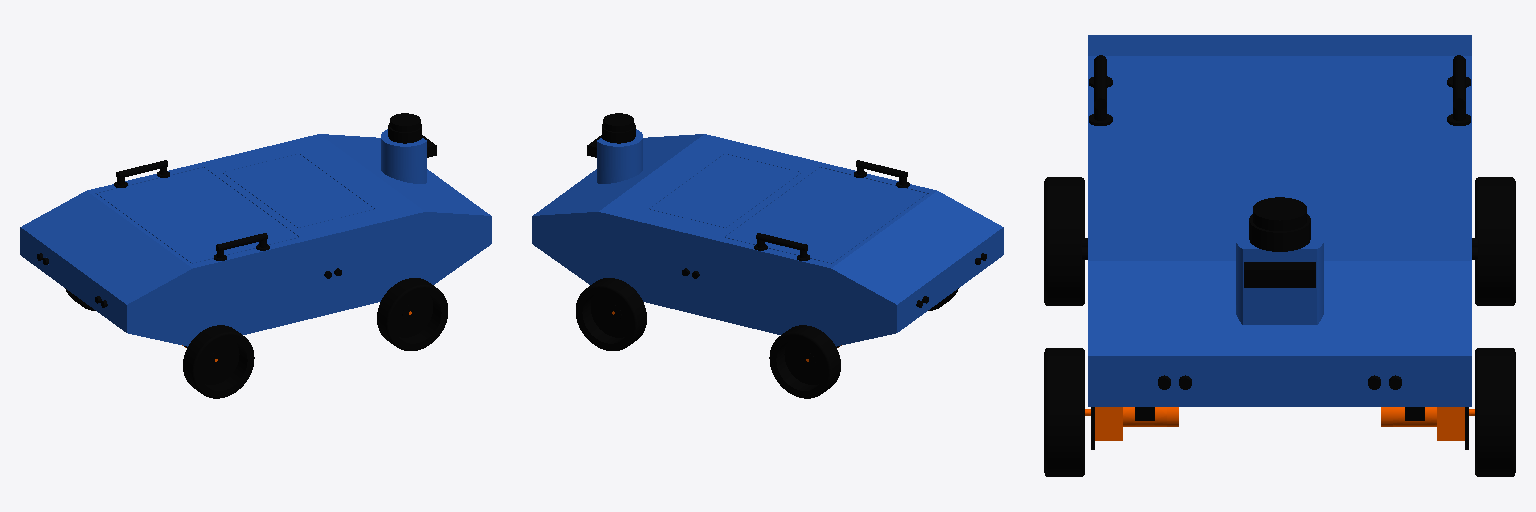
The robot description file, URDF, robot "vishwaa":
<?xml version="1.0"?>
<robot name="vishwaa">
  <material name="vishwaa_blue"><color rgba="0.16 0.36 0.70 1"/></material>
  <material name="matte_black"><color rgba="0.05 0.05 0.05 1"/></material>
  <material name="tt555_orange"><color rgba="1.0 0.40 0.0 1"/></material>
  <link name="base_footprint"/>
  <link name="base_link">
    <inertial>
      <origin xyz="0.002165 0.000532 0.113181" rpy="0 0 0"/>
      <mass value="29.03409"/>
      <inertia ixx="0.787712" ixy="-0.001158" ixz="-0.099656" iyy="1.85682" iyz="0.000778" izz="2.245856"/>
    </inertial>
    <visual>
      <origin xyz="0 0 -0.08" rpy="0 0 0"/>
      <geometry><mesh filename="package://vishwaa_description/meshes/chassis_hull.stl" scale="0.001 0.001 0.001"/></geometry>
      <material name="vishwaa_blue"/>
    </visual>
    <visual>
      <origin xyz="0 0 -0.08" rpy="0 0 0"/>
      <geometry><mesh filename="package://vishwaa_description/meshes/top_lid.stl" scale="0.001 0.001 0.001"/></geometry>
      <material name="vishwaa_blue"/>
    </visual>
    <visual>
      <origin xyz="0 0 -0.08" rpy="0 0 0"/>
      <geometry><mesh filename="package://vishwaa_description/meshes/sensor_disc.stl" scale="0.001 0.001 0.001"/></geometry>
      <material name="vishwaa_blue"/>
    </visual>
    <visual>
      <origin xyz="0 0 -0.08" rpy="0 0 0"/>
      <geometry><mesh filename="package://vishwaa_description/meshes/handle_right.stl" scale="0.001 0.001 0.001"/></geometry>
      <material name="matte_black"/>
    </visual>
    <visual>
      <origin xyz="0 0 -0.08" rpy="0 0 0"/>
      <geometry><mesh filename="package://vishwaa_description/meshes/handle_left.stl" scale="0.001 0.001 0.001"/></geometry>
      <material name="matte_black"/>
    </visual>
    <visual>
      <origin xyz="0.25 0.2295 0" rpy="0 0 0"/>
      <geometry><mesh filename="package://vishwaa_description/meshes/gearmotor_tt555.stl" scale="0.001 0.001 0.001"/></geometry>
      <material name="tt555_orange"/>
    </visual>
    <visual>
      <origin xyz="0.25 -0.2295 0" rpy="0 0 3.141593"/>
      <geometry><mesh filename="package://vishwaa_description/meshes/gearmotor_tt555.stl" scale="0.001 0.001 0.001"/></geometry>
      <material name="tt555_orange"/>
    </visual>
    <visual>
      <origin xyz="-0.25 0.2295 0" rpy="0 0 0"/>
      <geometry><mesh filename="package://vishwaa_description/meshes/gearmotor_tt555.stl" scale="0.001 0.001 0.001"/></geometry>
      <material name="tt555_orange"/>
    </visual>
    <visual>
      <origin xyz="-0.25 -0.2295 0" rpy="0 0 3.141593"/>
      <geometry><mesh filename="package://vishwaa_description/meshes/gearmotor_tt555.stl" scale="0.001 0.001 0.001"/></geometry>
      <material name="tt555_orange"/>
    </visual>
    <visual>
      <origin xyz="0.25 0.2295 0" rpy="0 0 0"/>
      <geometry><mesh filename="package://vishwaa_description/meshes/motor_mount_plate.stl" scale="0.001 0.001 0.001"/></geometry>
      <material name="matte_black"/>
    </visual>
    <visual>
      <origin xyz="0.25 -0.2295 0" rpy="0 0 3.141593"/>
      <geometry><mesh filename="package://vishwaa_description/meshes/motor_mount_plate.stl" scale="0.001 0.001 0.001"/></geometry>
      <material name="matte_black"/>
    </visual>
    <visual>
      <origin xyz="-0.25 0.2295 0" rpy="0 0 0"/>
      <geometry><mesh filename="package://vishwaa_description/meshes/motor_mount_plate.stl" scale="0.001 0.001 0.001"/></geometry>
      <material name="matte_black"/>
    </visual>
    <visual>
      <origin xyz="-0.25 -0.2295 0" rpy="0 0 3.141593"/>
      <geometry><mesh filename="package://vishwaa_description/meshes/motor_mount_plate.stl" scale="0.001 0.001 0.001"/></geometry>
      <material name="matte_black"/>
    </visual>
    <visual>
      <origin xyz="0.25 0.2295 0" rpy="0 0 0"/>
      <geometry><mesh filename="package://vishwaa_description/meshes/motor_saddle.stl" scale="0.001 0.001 0.001"/></geometry>
      <material name="matte_black"/>
    </visual>
    <visual>
      <origin xyz="0.25 -0.2295 0" rpy="0 0 3.141593"/>
      <geometry><mesh filename="package://vishwaa_description/meshes/motor_saddle.stl" scale="0.001 0.001 0.001"/></geometry>
      <material name="matte_black"/>
    </visual>
    <visual>
      <origin xyz="-0.25 0.2295 0" rpy="0 0 0"/>
      <geometry><mesh filename="package://vishwaa_description/meshes/motor_saddle.stl" scale="0.001 0.001 0.001"/></geometry>
      <material name="matte_black"/>
    </visual>
    <visual>
      <origin xyz="-0.25 -0.2295 0" rpy="0 0 3.141593"/>
      <geometry><mesh filename="package://vishwaa_description/meshes/motor_saddle.stl" scale="0.001 0.001 0.001"/></geometry>
      <material name="matte_black"/>
    </visual>
    <collision>
      <origin xyz="0 0 0.1325" rpy="0 0 0"/>
      <geometry><box size="0.94 0.475 0.195"/></geometry>
    </collision>
  </link>
  <link name="wheel_front_left_link">
    <inertial>
      <origin xyz="0 0.018863 0" rpy="0 0 0"/>
      <mass value="0.670094"/>
      <inertia ixx="0.001352" ixy="0" ixz="0" iyy="0.002459" iyz="0" izz="0.001352"/>
    </inertial>
    <visual>
      <origin xyz="0 0 0" rpy="0 0 0"/>
      <geometry><mesh filename="package://vishwaa_description/meshes/wheel.stl" scale="0.001 0.001 0.001"/></geometry>
      <material name="matte_black"/>
    </visual>
    <collision>
      <origin xyz="0 0.025 0" rpy="1.570796 0 0"/>
      <geometry><cylinder radius="0.08" length="0.05"/></geometry>
    </collision>
  </link>
  <link name="wheel_front_right_link">
    <inertial>
      <origin xyz="0 0.018863 0" rpy="0 0 0"/>
      <mass value="0.670094"/>
      <inertia ixx="0.001352" ixy="0" ixz="0" iyy="0.002459" iyz="0" izz="0.001352"/>
    </inertial>
    <visual>
      <origin xyz="0 0 0" rpy="0 0 0"/>
      <geometry><mesh filename="package://vishwaa_description/meshes/wheel.stl" scale="0.001 0.001 0.001"/></geometry>
      <material name="matte_black"/>
    </visual>
    <collision>
      <origin xyz="0 0.025 0" rpy="1.570796 0 0"/>
      <geometry><cylinder radius="0.08" length="0.05"/></geometry>
    </collision>
  </link>
  <link name="wheel_rear_left_link">
    <inertial>
      <origin xyz="0 0.018863 0" rpy="0 0 0"/>
      <mass value="0.670094"/>
      <inertia ixx="0.001352" ixy="0" ixz="0" iyy="0.002459" iyz="0" izz="0.001352"/>
    </inertial>
    <visual>
      <origin xyz="0 0 0" rpy="0 0 0"/>
      <geometry><mesh filename="package://vishwaa_description/meshes/wheel.stl" scale="0.001 0.001 0.001"/></geometry>
      <material name="matte_black"/>
    </visual>
    <collision>
      <origin xyz="0 0.025 0" rpy="1.570796 0 0"/>
      <geometry><cylinder radius="0.08" length="0.05"/></geometry>
    </collision>
  </link>
  <link name="wheel_rear_right_link">
    <inertial>
      <origin xyz="0 0.018863 0" rpy="0 0 0"/>
      <mass value="0.670094"/>
      <inertia ixx="0.001352" ixy="0" ixz="0" iyy="0.002459" iyz="0" izz="0.001352"/>
    </inertial>
    <visual>
      <origin xyz="0 0 0" rpy="0 0 0"/>
      <geometry><mesh filename="package://vishwaa_description/meshes/wheel.stl" scale="0.001 0.001 0.001"/></geometry>
      <material name="matte_black"/>
    </visual>
    <collision>
      <origin xyz="0 0.025 0" rpy="1.570796 0 0"/>
      <geometry><cylinder radius="0.08" length="0.05"/></geometry>
    </collision>
  </link>
  <link name="lidar_link">
    <inertial>
      <origin xyz="0 0 -0.014023" rpy="0 0 0"/>
      <mass value="0.182769"/>
      <inertia ixx="0.000087" ixy="0" ixz="0" iyy="0.000087" iyz="0" izz="0.000124"/>
    </inertial>
    <visual>
      <origin xyz="-0.385 0 -0.4135" rpy="0 0 0"/>
      <geometry><mesh filename="package://vishwaa_description/meshes/lidar_2d.stl" scale="0.001 0.001 0.001"/></geometry>
      <material name="matte_black"/>
    </visual>
    <collision>
      <origin xyz="0 0 -0.0135" rpy="0 0 0"/>
      <geometry><cylinder radius="0.038" length="0.041"/></geometry>
    </collision>
  </link>
  <link name="camera_link">
    <inertial>
      <origin xyz="0 0 0" rpy="0 0 0"/>
      <mass value="0.059625"/>
      <inertia ixx="0.000043" ixy="0" ixz="0" iyy="0.000006" iyz="0" izz="0.000043"/>
    </inertial>
    <visual>
      <origin xyz="-0.4275 0 -0.3505" rpy="0 0 0"/>
      <geometry><mesh filename="package://vishwaa_description/meshes/depth_camera.stl" scale="0.001 0.001 0.001"/></geometry>
      <material name="matte_black"/>
    </visual>
    <collision>
      <origin xyz="0 0 0" rpy="0 0 0"/>
      <geometry><box size="0.025 0.09 0.025"/></geometry>
    </collision>
  </link>
  <link name="camera_depth_optical_frame"/>
  <link name="us_front_right_link">
    <inertial>
      <origin xyz="0.005106 0 0" rpy="0 0 0"/>
      <mass value="0.014937"/>
      <inertia ixx="0.000003" ixy="0" ixz="0" iyy="0.000001" iyz="0" izz="0.000003"/>
    </inertial>
    <visual>
      <origin xyz="0 0 0" rpy="0 0 0"/>
      <geometry><mesh filename="package://vishwaa_description/meshes/ultrasonic_module.stl" scale="0.001 0.001 0.001"/></geometry>
      <material name="matte_black"/>
    </visual>
  </link>
  <link name="us_front_left_link">
    <inertial>
      <origin xyz="0.005106 0 0" rpy="0 0 0"/>
      <mass value="0.014937"/>
      <inertia ixx="0.000003" ixy="0" ixz="0" iyy="0.000001" iyz="0" izz="0.000003"/>
    </inertial>
    <visual>
      <origin xyz="0 0 0" rpy="0 0 0"/>
      <geometry><mesh filename="package://vishwaa_description/meshes/ultrasonic_module.stl" scale="0.001 0.001 0.001"/></geometry>
      <material name="matte_black"/>
    </visual>
  </link>
  <link name="us_rear_right_link">
    <inertial>
      <origin xyz="0.005106 0 0" rpy="0 0 0"/>
      <mass value="0.014937"/>
      <inertia ixx="0.000003" ixy="0" ixz="0" iyy="0.000001" iyz="0" izz="0.000003"/>
    </inertial>
    <visual>
      <origin xyz="0 0 0" rpy="0 0 0"/>
      <geometry><mesh filename="package://vishwaa_description/meshes/ultrasonic_module.stl" scale="0.001 0.001 0.001"/></geometry>
      <material name="matte_black"/>
    </visual>
  </link>
  <link name="us_rear_left_link">
    <inertial>
      <origin xyz="0.005106 0 0" rpy="0 0 0"/>
      <mass value="0.014937"/>
      <inertia ixx="0.000003" ixy="0" ixz="0" iyy="0.000001" iyz="0" izz="0.000003"/>
    </inertial>
    <visual>
      <origin xyz="0 0 0" rpy="0 0 0"/>
      <geometry><mesh filename="package://vishwaa_description/meshes/ultrasonic_module.stl" scale="0.001 0.001 0.001"/></geometry>
      <material name="matte_black"/>
    </visual>
  </link>
  <link name="us_left_link">
    <inertial>
      <origin xyz="0.005106 0 0" rpy="0 0 0"/>
      <mass value="0.014937"/>
      <inertia ixx="0.000003" ixy="0" ixz="0" iyy="0.000001" iyz="0" izz="0.000003"/>
    </inertial>
    <visual>
      <origin xyz="0 0 0" rpy="0 0 0"/>
      <geometry><mesh filename="package://vishwaa_description/meshes/ultrasonic_module.stl" scale="0.001 0.001 0.001"/></geometry>
      <material name="matte_black"/>
    </visual>
  </link>
  <link name="us_right_link">
    <inertial>
      <origin xyz="0.005106 0 0" rpy="0 0 0"/>
      <mass value="0.014937"/>
      <inertia ixx="0.000003" ixy="0" ixz="0" iyy="0.000001" iyz="0" izz="0.000003"/>
    </inertial>
    <visual>
      <origin xyz="0 0 0" rpy="0 0 0"/>
      <geometry><mesh filename="package://vishwaa_description/meshes/ultrasonic_module.stl" scale="0.001 0.001 0.001"/></geometry>
      <material name="matte_black"/>
    </visual>
  </link>
  <joint name="base_footprint_joint" type="fixed">
    <parent link="base_footprint"/>
    <child link="base_link"/>
    <origin xyz="0 0 0.08" rpy="0 0 0"/>
  </joint>
  <joint name="wheel_front_left_joint" type="continuous">
    <parent link="base_link"/>
    <child link="wheel_front_left_link"/>
    <origin xyz="0.25 0.2415 0" rpy="0 0 0"/>
    <axis xyz="0 1 0"/>
    <dynamics damping="0.01" friction="0.01"/>
  </joint>
  <joint name="wheel_front_right_joint" type="continuous">
    <parent link="base_link"/>
    <child link="wheel_front_right_link"/>
    <origin xyz="0.25 -0.2415 0" rpy="0 0 3.141593"/>
    <axis xyz="0 -1 0"/>
    <dynamics damping="0.01" friction="0.01"/>
  </joint>
  <joint name="wheel_rear_left_joint" type="continuous">
    <parent link="base_link"/>
    <child link="wheel_rear_left_link"/>
    <origin xyz="-0.25 0.2415 0" rpy="0 0 0"/>
    <axis xyz="0 1 0"/>
    <dynamics damping="0.01" friction="0.01"/>
  </joint>
  <joint name="wheel_rear_right_joint" type="continuous">
    <parent link="base_link"/>
    <child link="wheel_rear_right_link"/>
    <origin xyz="-0.25 -0.2415 0" rpy="0 0 3.141593"/>
    <axis xyz="0 -1 0"/>
    <dynamics damping="0.01" friction="0.01"/>
  </joint>
  <joint name="lidar_joint" type="fixed">
    <parent link="base_link"/>
    <child link="lidar_link"/>
    <origin xyz="0.385 0 0.3335" rpy="0 0 0"/>
  </joint>
  <joint name="camera_joint" type="fixed">
    <parent link="base_link"/>
    <child link="camera_link"/>
    <origin xyz="0.4275 0 0.2705" rpy="0 0 0"/>
  </joint>
  <joint name="camera_optical_joint" type="fixed">
    <parent link="camera_link"/>
    <child link="camera_depth_optical_frame"/>
    <origin xyz="0.0125 0 0" rpy="-1.570796 0 -1.570796"/>
  </joint>
  <joint name="us_front_right_joint" type="fixed">
    <parent link="base_link"/>
    <child link="us_front_right_link"/>
    <origin xyz="0.466 -0.13 0.145" rpy="0 0 0"/>
  </joint>
  <joint name="us_front_left_joint" type="fixed">
    <parent link="base_link"/>
    <child link="us_front_left_link"/>
    <origin xyz="0.466 0.13 0.145" rpy="0 0 0"/>
  </joint>
  <joint name="us_rear_right_joint" type="fixed">
    <parent link="base_link"/>
    <child link="us_rear_right_link"/>
    <origin xyz="-0.466 -0.13 0.145" rpy="0 0 3.141593"/>
  </joint>
  <joint name="us_rear_left_joint" type="fixed">
    <parent link="base_link"/>
    <child link="us_rear_left_link"/>
    <origin xyz="-0.466 0.13 0.145" rpy="0 0 3.141593"/>
  </joint>
  <joint name="us_left_joint" type="fixed">
    <parent link="base_link"/>
    <child link="us_left_link"/>
    <origin xyz="0.06 0.2335 0.135" rpy="0 0 1.570796"/>
  </joint>
  <joint name="us_right_joint" type="fixed">
    <parent link="base_link"/>
    <child link="us_right_link"/>
    <origin xyz="0.06 -0.2335 0.135" rpy="0 0 -1.570796"/>
  </joint>
</robot>

--- What the picture shows (computed from the rendered views, not written in the file) ---
Views: 3 orthographic renders of the robot side by side, from view 1: azimuth 30°, elevation 25°; view 2: azimuth 150°, elevation 25°; view 3: azimuth 270°, elevation 25°.
Model vishwaa with 15 links and 14 joints (4 continuous, 10 fixed), rooted at base_footprint, posed all joints at 0.
Visible links, largest first — view 1: base_link, wheel_rear_right_link, wheel_front_right_link, lidar_link; view 2: base_link, wheel_rear_left_link, wheel_front_left_link, lidar_link; view 3: base_link, wheel_front_left_link, wheel_front_right_link, wheel_rear_left_link, wheel_rear_right_link, lidar_link, camera_link.
Boxes of the visible links, <box> form: base_link: <box>20,129,491,361</box>; wheel_rear_right_link: <box>183,325,254,398</box>; wheel_front_right_link: <box>377,278,447,350</box>; lidar_link: <box>388,113,421,143</box>; base_link: <box>532,129,1003,361</box>; wheel_rear_left_link: <box>769,325,840,398</box>; wheel_front_left_link: <box>576,278,646,350</box>; lidar_link: <box>602,113,635,143</box>; base_link: <box>1085,35,1474,449</box>; wheel_front_left_link: <box>1475,348,1515,476</box>; wheel_front_right_link: <box>1044,348,1084,476</box>; wheel_rear_left_link: <box>1475,177,1515,305</box>; wheel_rear_right_link: <box>1044,177,1084,305</box>; lidar_link: <box>1249,197,1310,251</box>; camera_link: <box>1244,262,1315,287</box>.
Size in the robot's own frame: 0.956 by 0.583 by 0.421 metres.
Meshes: 12 distinct files referenced, 29 mesh visuals loaded (12 binary STL).
